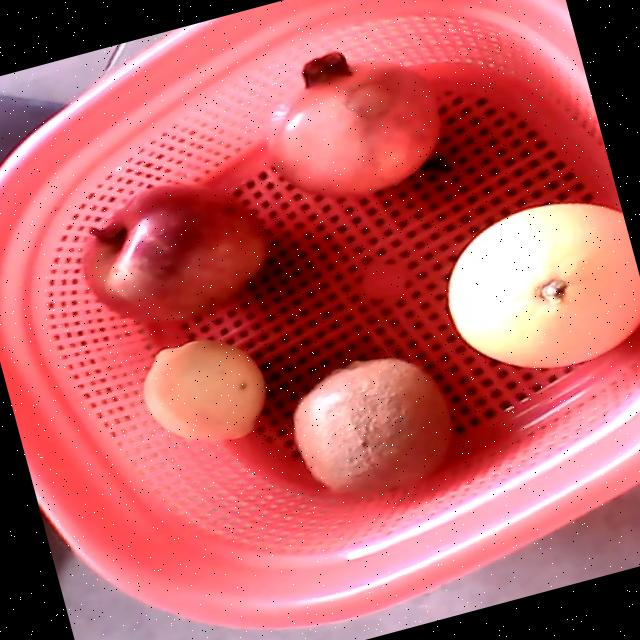apple: (83, 180, 269, 320)
kiwi: (292, 357, 451, 494)
lemon: (141, 339, 266, 440)
orange: (448, 202, 640, 368)
pomegranate: (267, 48, 442, 196)
